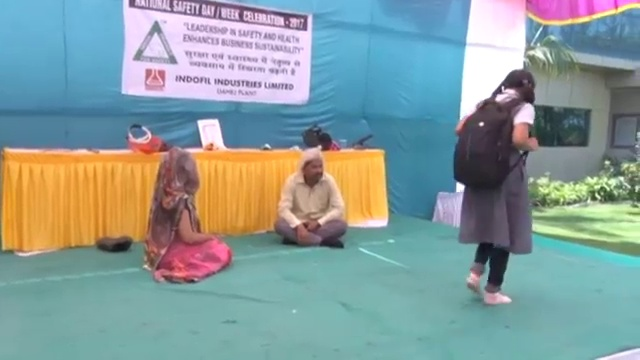helmet_off: (157, 150, 200, 193), (501, 67, 537, 99), (300, 148, 325, 179)
person: (452, 67, 540, 306), (142, 143, 233, 284), (271, 147, 350, 250)
